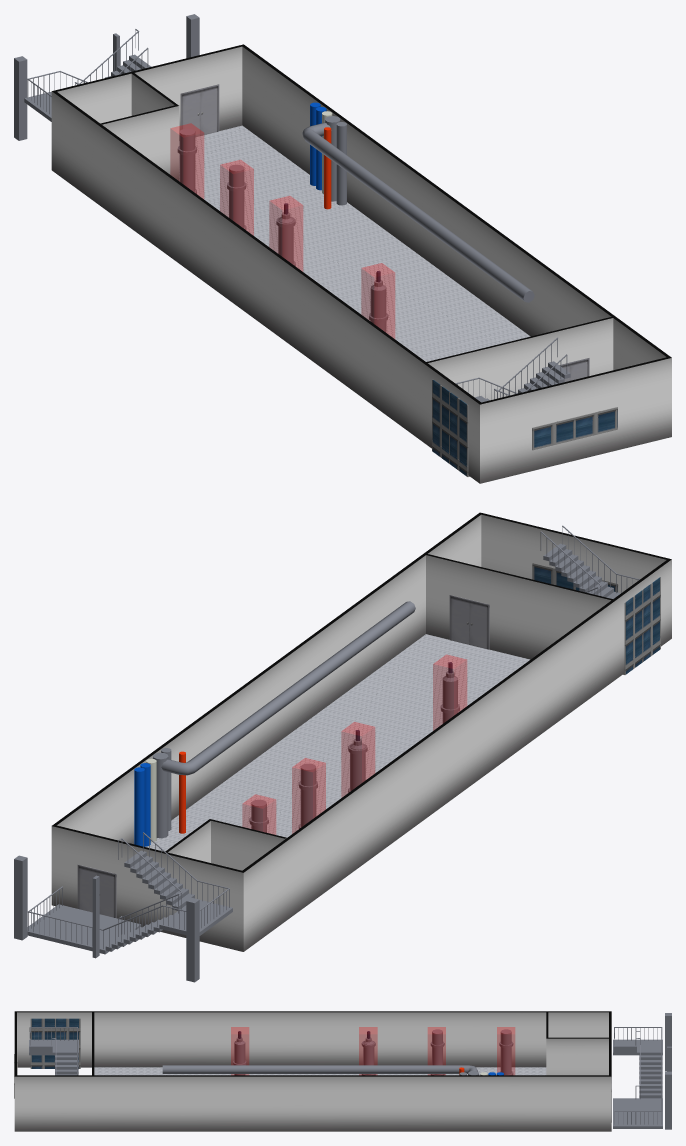
File: soulbrain_T5-1-3F-1.glb
The picture shows the model from 3 angles, top to bottom: view 1: azimuth 30°, elevation 25°; view 2: azimuth 150°, elevation 25°; view 3: azimuth 270°, elevation 25°; orthographic projection. The views are drawn at different scales.
Visible parts, largest first — view 1: T5-1-3F-1 (1), Rectangle1017, T5-1-3F-1, Line854, equipment-T5-1-3F-1-002, equipment-T5-1-3F-1-004, equipment-T5-1-3F-1-003, equipment-T5-1-3F-1-001; view 2: T5-1-3F-1 (1), Rectangle1017, T5-1-3F-1, Line854, equipment-T5-1-3F-1-003, equipment-T5-1-3F-1-004, equipment-T5-1-3F-1-002, equipment-T5-1-3F-1-001; view 3: T5-1-3F-1 (1), Line854, T5-1-3F-1, Rectangle1017, equipment-T5-1-3F-1-001, equipment-T5-1-3F-1-003, equipment-T5-1-3F-1-002, equipment-T5-1-3F-1-004.
Part boxes in pixels (x1=…): T5-1-3F-1 (1): x1=14, y1=14, x2=671, y2=483; Rectangle1017: x1=179, y1=125, x2=530, y2=361; T5-1-3F-1: x1=177, y1=102, x2=388, y2=332; Line854: x1=302, y1=122, x2=534, y2=302; equipment-T5-1-3F-1-002: x1=220, y1=160, x2=253, y2=235; equipment-T5-1-3F-1-004: x1=361, y1=263, x2=394, y2=338; equipment-T5-1-3F-1-003: x1=269, y1=196, x2=302, y2=271; equipment-T5-1-3F-1-001: x1=170, y1=123, x2=203, y2=198; T5-1-3F-1 (1): x1=14, y1=512, x2=671, y2=982; Rectangle1017: x1=145, y1=634, x2=529, y2=851; T5-1-3F-1: x1=134, y1=671, x2=459, y2=846; Line854: x1=161, y1=601, x2=415, y2=775; equipment-T5-1-3F-1-003: x1=341, y1=722, x2=374, y2=797; equipment-T5-1-3F-1-004: x1=433, y1=655, x2=466, y2=730; equipment-T5-1-3F-1-002: x1=292, y1=758, x2=325, y2=833; equipment-T5-1-3F-1-001: x1=242, y1=794, x2=275, y2=834; T5-1-3F-1 (1): x1=14, y1=1011, x2=671, y2=1131; Line854: x1=162, y1=1065, x2=477, y2=1073; T5-1-3F-1: x1=233, y1=1029, x2=513, y2=1075; Rectangle1017: x1=94, y1=1067, x2=546, y2=1075; equipment-T5-1-3F-1-001: x1=497, y1=1027, x2=514, y2=1074; equipment-T5-1-3F-1-003: x1=359, y1=1027, x2=377, y2=1074; equipment-T5-1-3F-1-002: x1=428, y1=1027, x2=445, y2=1074; equipment-T5-1-3F-1-004: x1=231, y1=1027, x2=248, y2=1074.
Bounding box in the file's own units: 9.01 × 4.61 × 38.21.
Materials: 13 (8 with a texture image).
